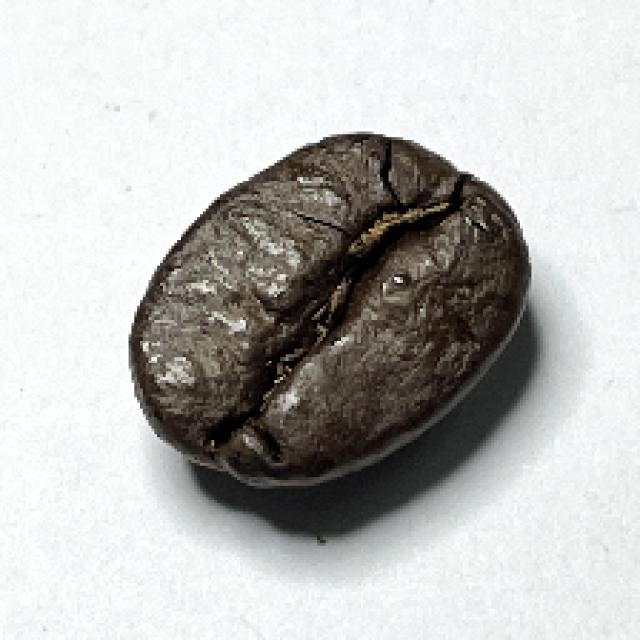bean: (126, 130, 533, 490)
